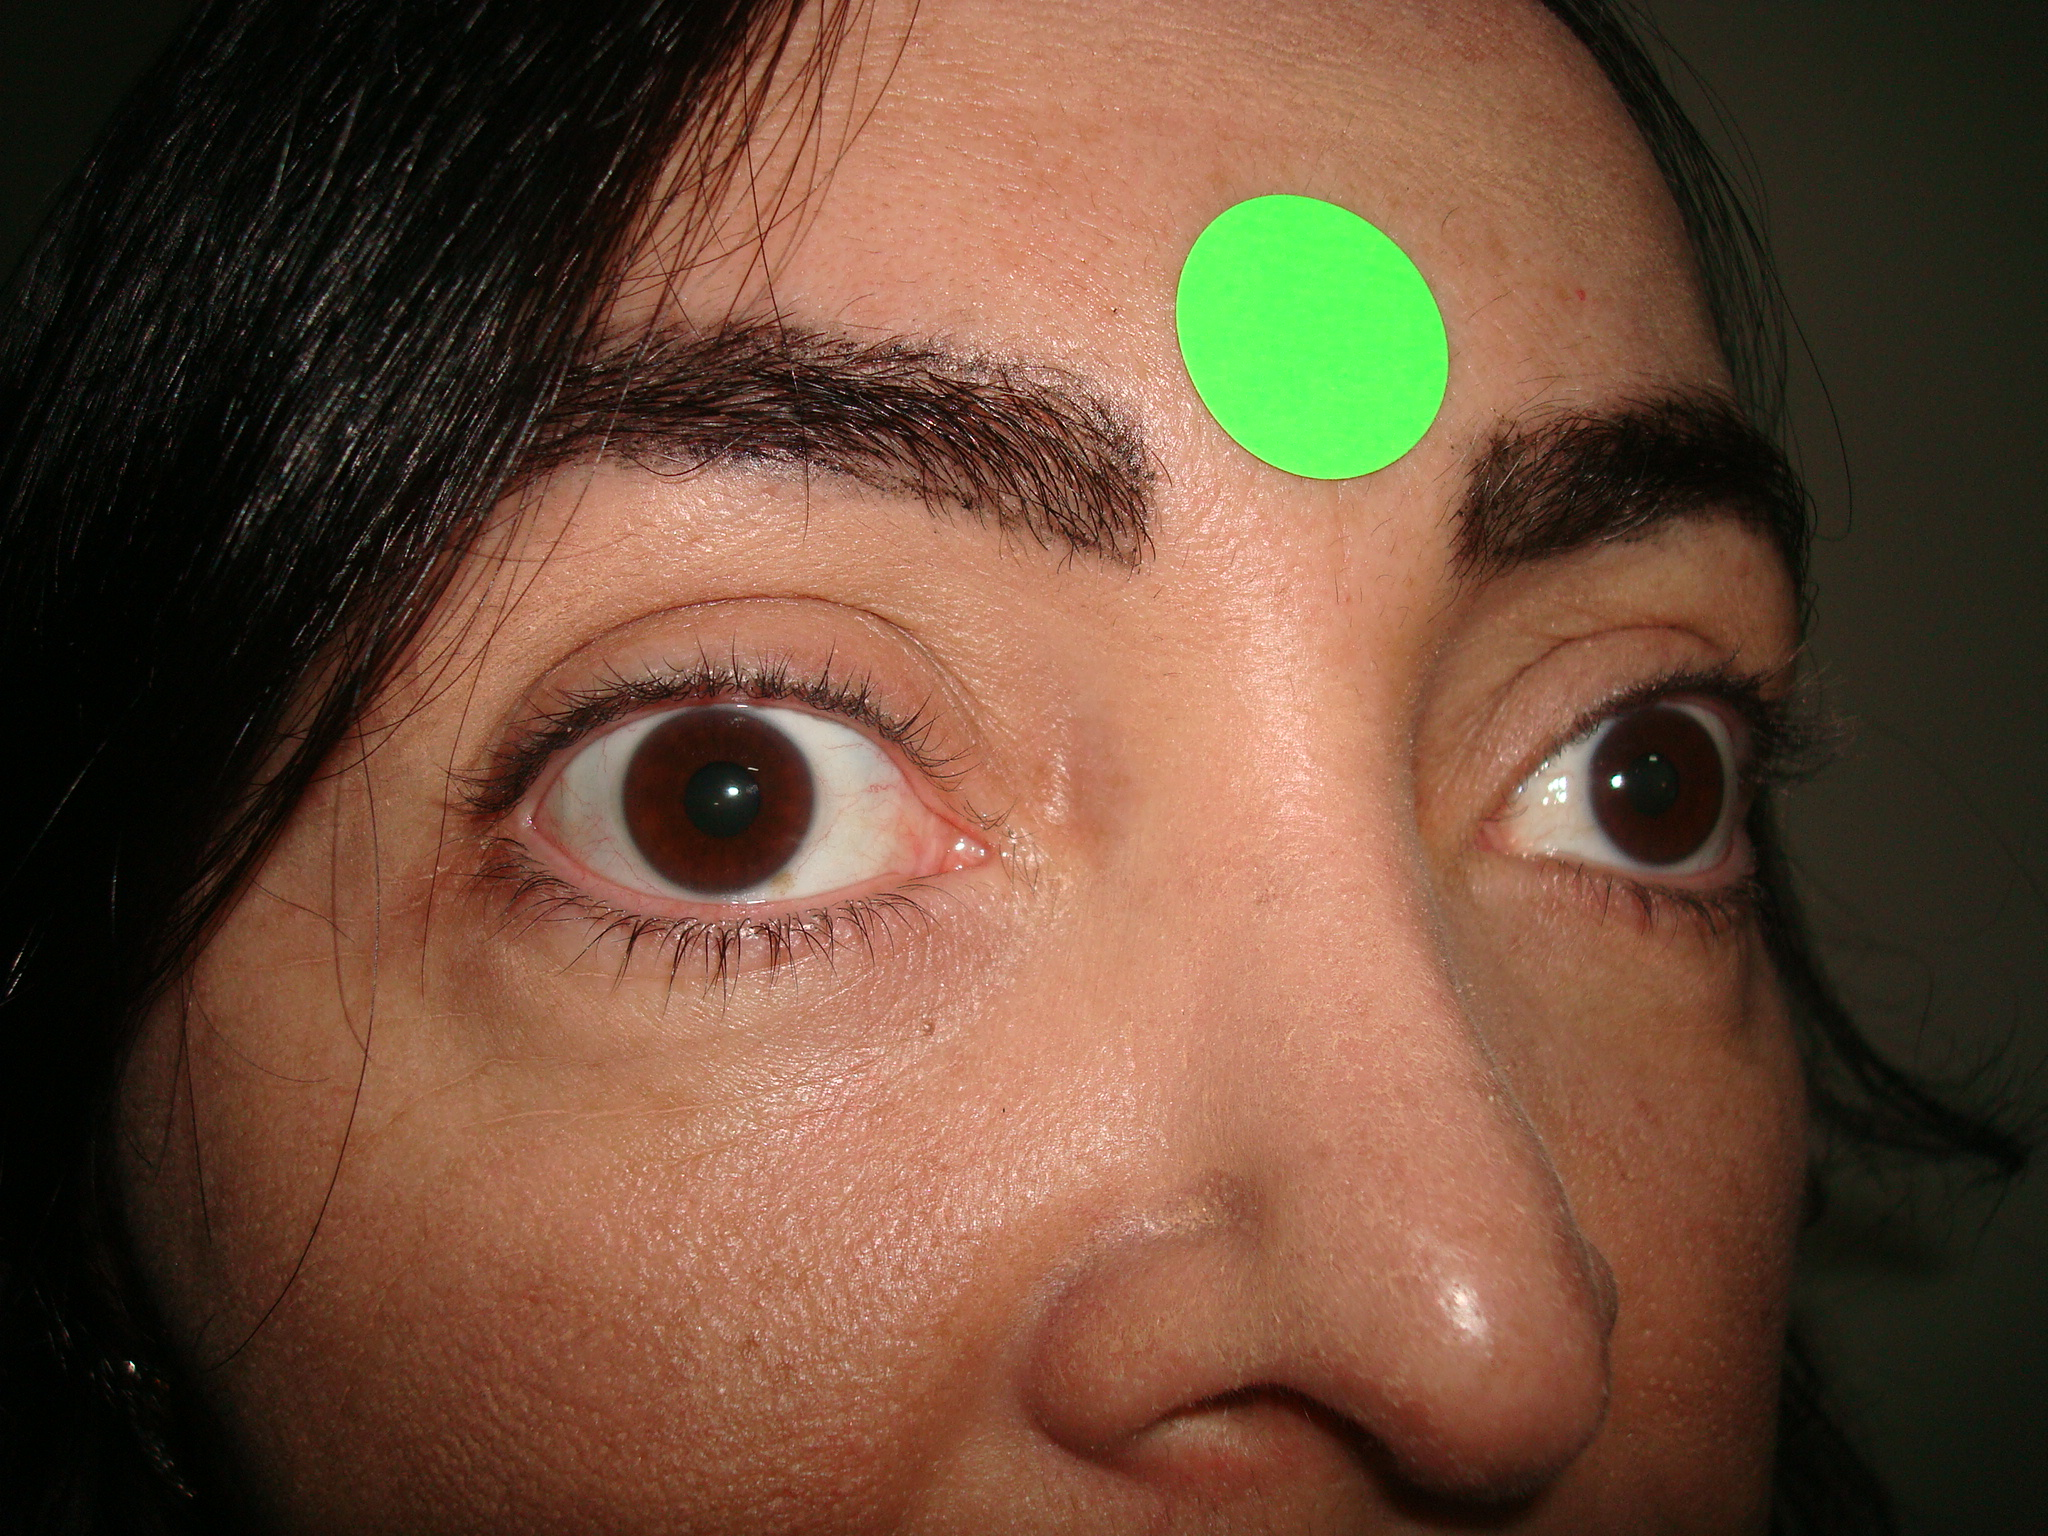flash: (1608, 770, 1627, 792), (724, 783, 742, 802)
limbo: (624, 708, 813, 892), (1587, 712, 1721, 865)
